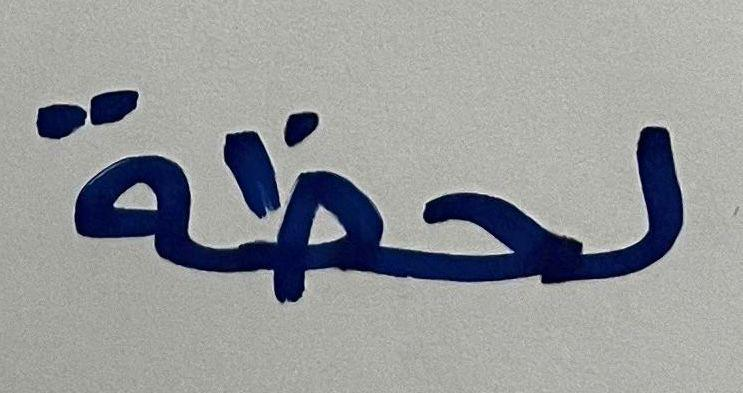hah: (392, 93, 558, 360)
lam: (563, 62, 699, 359)
teh_marbota: (22, 32, 200, 315)
zah: (203, 55, 390, 320)
